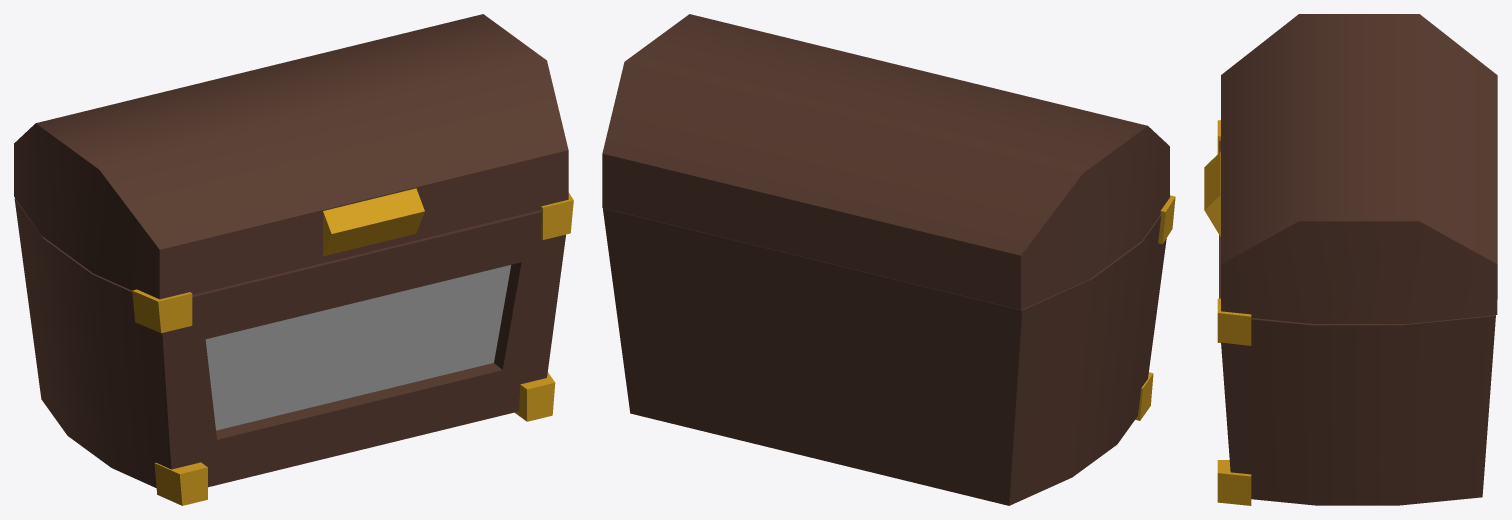
Rendered from Chest.fbx.
The picture shows the model from 3 angles, left to right: view 1: azimuth 30°, elevation 25°; view 2: azimuth 150°, elevation 25°; view 3: azimuth 270°, elevation 25°; orthographic projection. The views are drawn at different scales.
Visible parts, largest first — view 1: TreasureChest, TreasureChestLid; view 2: TreasureChestLid, TreasureChest; view 3: TreasureChestLid, TreasureChest.
Part boxes in pixels (box(x1,y1,x2,y2)): TreasureChest: box(14, 192, 573, 505); TreasureChestLid: box(14, 14, 568, 299); TreasureChestLid: box(602, 14, 1169, 309); TreasureChest: box(603, 195, 1175, 505); TreasureChestLid: box(1204, 14, 1497, 323); TreasureChest: box(1217, 120, 1495, 505).
Bounding box in the file's own units: 223 × 149 × 133.
